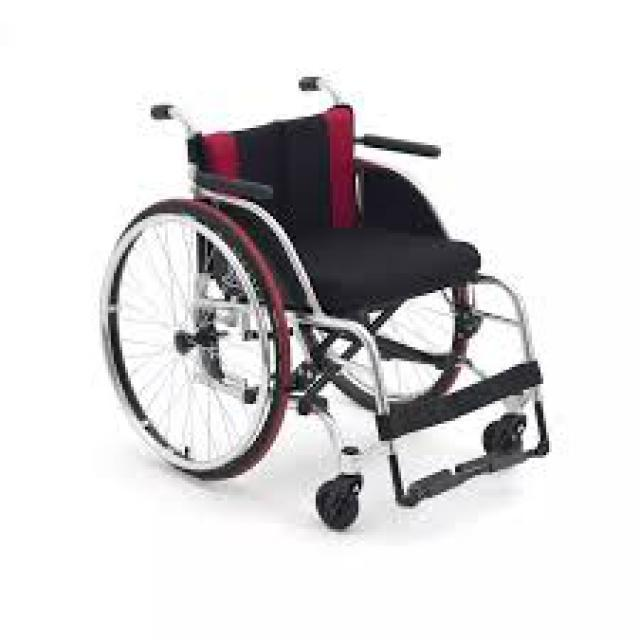wheelchair: (69, 65, 558, 535)
